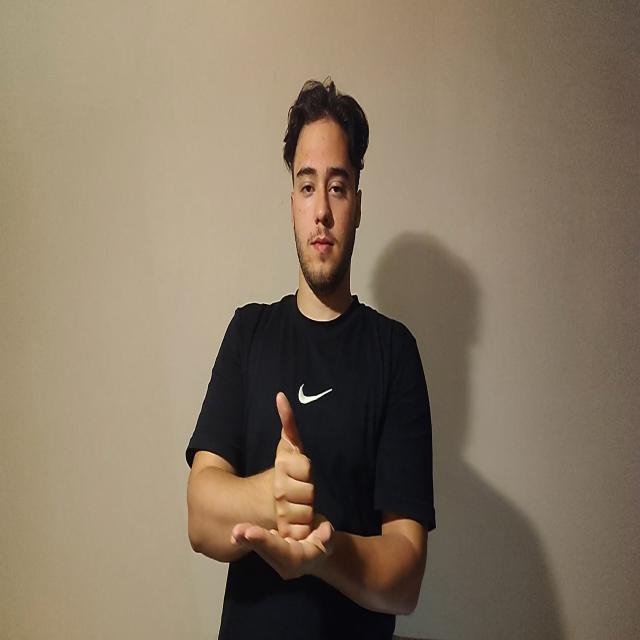help: (231, 396, 338, 578)
